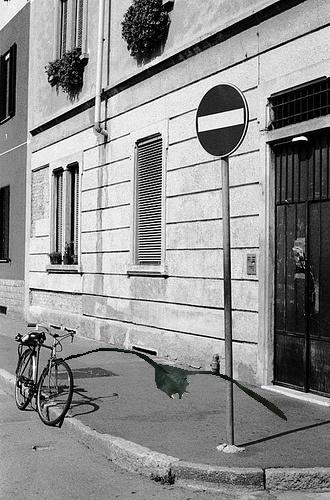tampered: (45, 349, 287, 421)
